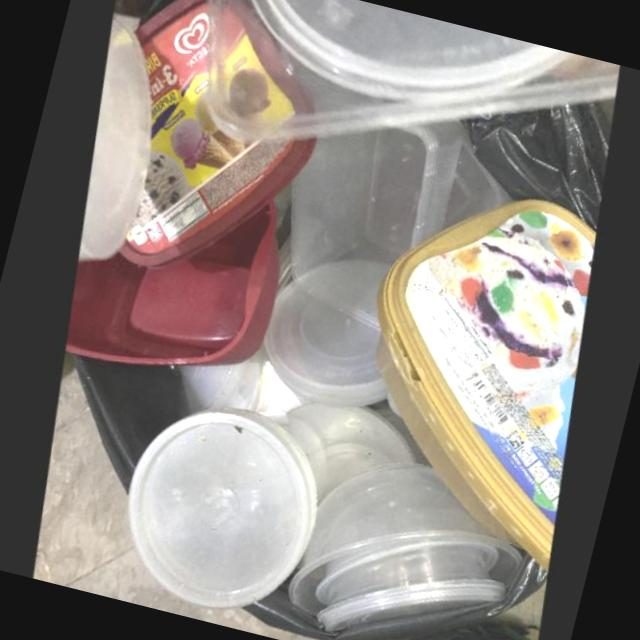hop_nhua: (379, 200, 598, 578), (204, 0, 620, 147), (122, 0, 320, 268), (292, 464, 526, 632), (130, 413, 321, 612), (68, 201, 282, 367), (293, 121, 464, 327), (265, 258, 393, 410), (80, 14, 154, 264), (263, 403, 420, 505), (441, 144, 518, 230)
